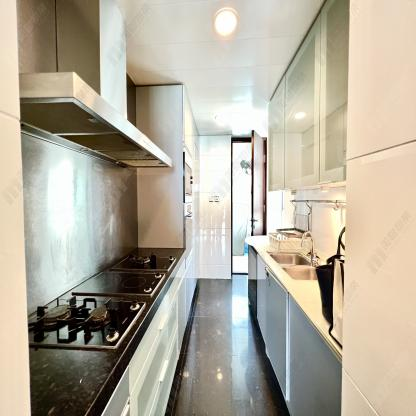Cupboard: (99, 229, 200, 416), (247, 243, 343, 416), (266, 0, 351, 189), (183, 87, 199, 160)
Exhaust Hood: (19, 97, 173, 169)
Faucet: (299, 230, 320, 268)
Microwave: (184, 149, 193, 201)
Oven: (183, 201, 193, 270)
Sink: (266, 250, 322, 281)
Stove: (27, 252, 177, 349)
